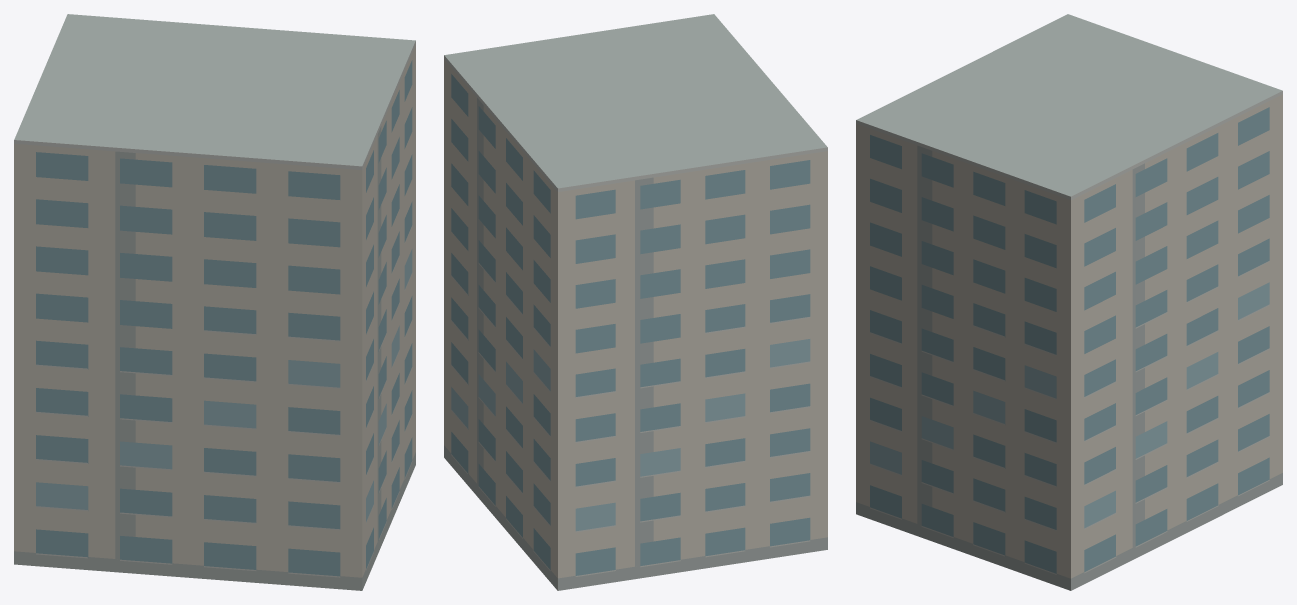
The model's file is residential-6ff92a4f-6659-4007-882c-de2078277adc.glb.
3 views of the same model, side by side, from view 1: azimuth 30°, elevation 25°; view 2: azimuth 150°, elevation 25°; view 3: azimuth 270°, elevation 25° (orthographic). The views are drawn at different scales.
Visible parts, largest first — view 1: residential-6ff92a4f-6659-4007-882c-de2078277adc.tmp; view 2: residential-6ff92a4f-6659-4007-882c-de2078277adc.tmp; view 3: residential-6ff92a4f-6659-4007-882c-de2078277adc.tmp.
Boxes of the visible parts, x1=… form: residential-6ff92a4f-6659-4007-882c-de2078277adc.tmp: x1=14, y1=14, x2=415, y2=590; residential-6ff92a4f-6659-4007-882c-de2078277adc.tmp: x1=444, y1=14, x2=827, y2=590; residential-6ff92a4f-6659-4007-882c-de2078277adc.tmp: x1=856, y1=14, x2=1282, y2=590.
Size of the model in its own units: 26.85 by 27 by 26.5.
